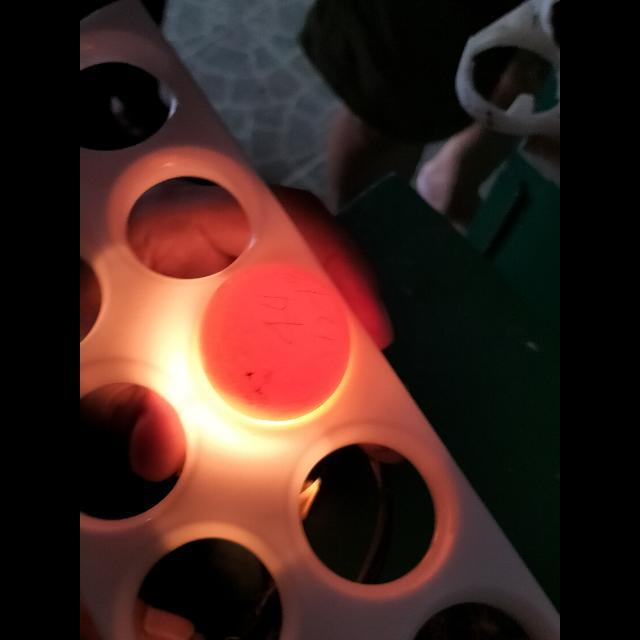Infertile: (202, 254, 358, 422)
